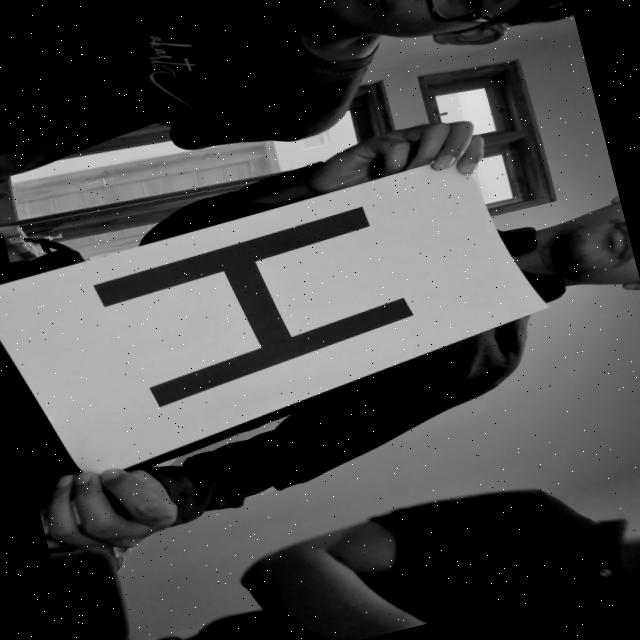h: (62, 172, 453, 438)
